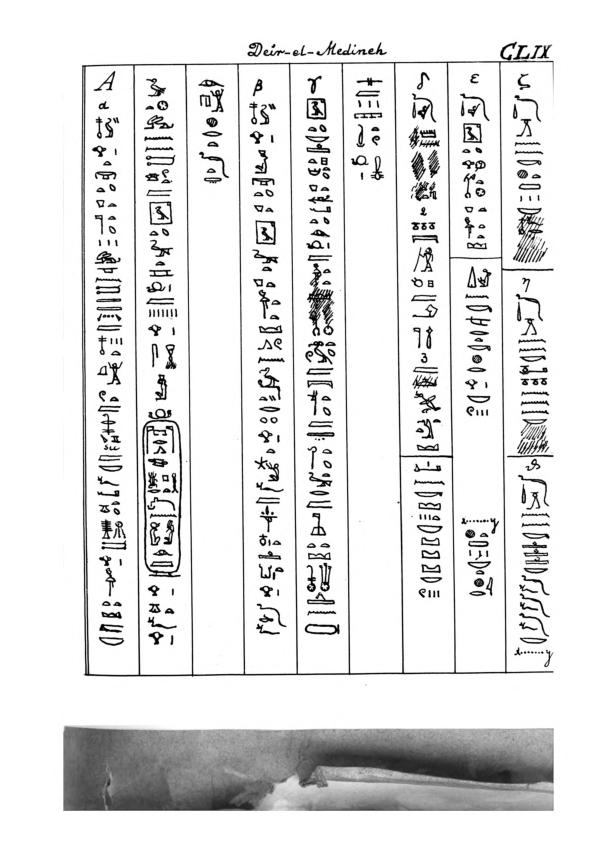circle: (142, 408, 185, 581)
